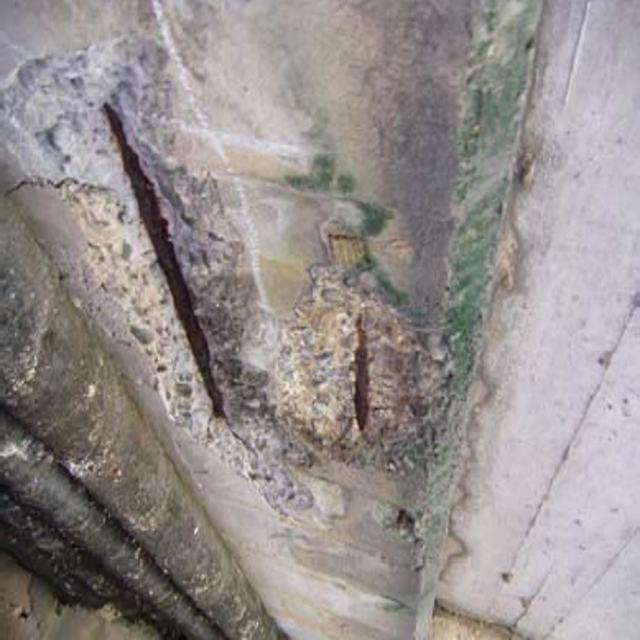spalling: (24, 33, 256, 463), (287, 267, 439, 453)
